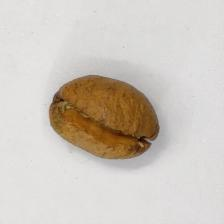NG: (61, 76, 141, 156)
